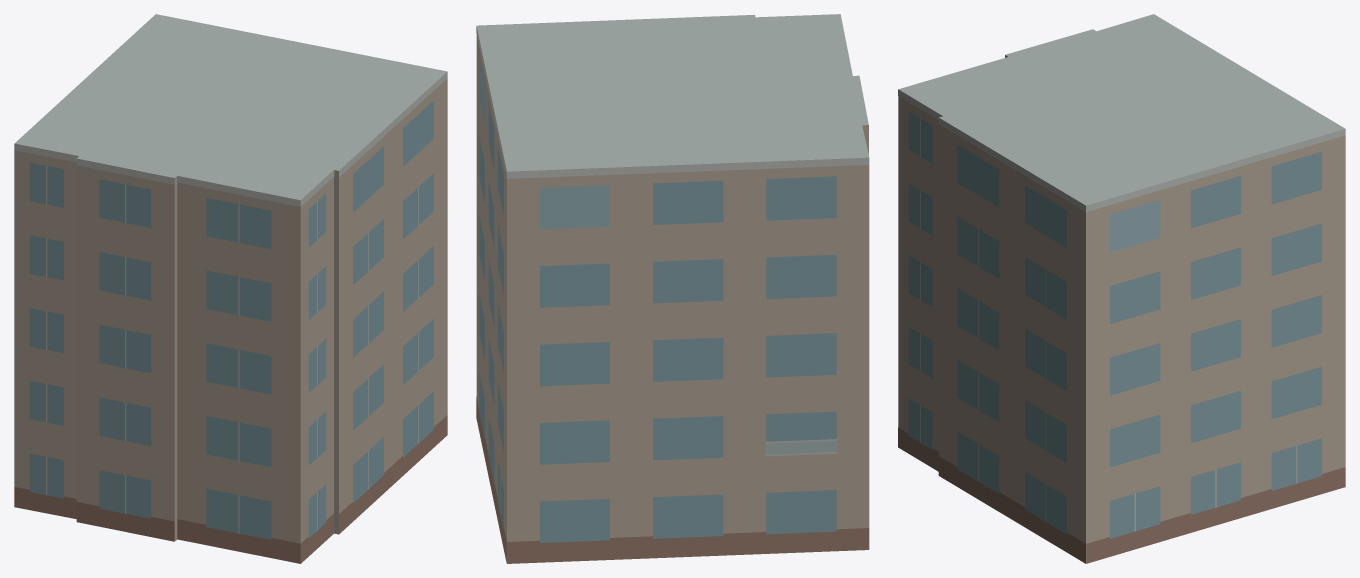
The model's file is survey-upis-32661101.glb.
3 renders of one model, left to right at view 1: azimuth 30°, elevation 25°; view 2: azimuth 150°, elevation 25°; view 3: azimuth 270°, elevation 25°, orthographic. The views are drawn at different scales.
Parts seen in each view (by area): view 1: survey-upis-32661101.tmp; view 2: survey-upis-32661101.tmp; view 3: survey-upis-32661101.tmp.
Boxes of the visible parts, bbox=[...] form: survey-upis-32661101.tmp: bbox=[14, 14, 447, 563]; survey-upis-32661101.tmp: bbox=[476, 14, 869, 563]; survey-upis-32661101.tmp: bbox=[898, 14, 1345, 563].
Size of the model in its own units: 15.16 by 13.2 by 14.95.
